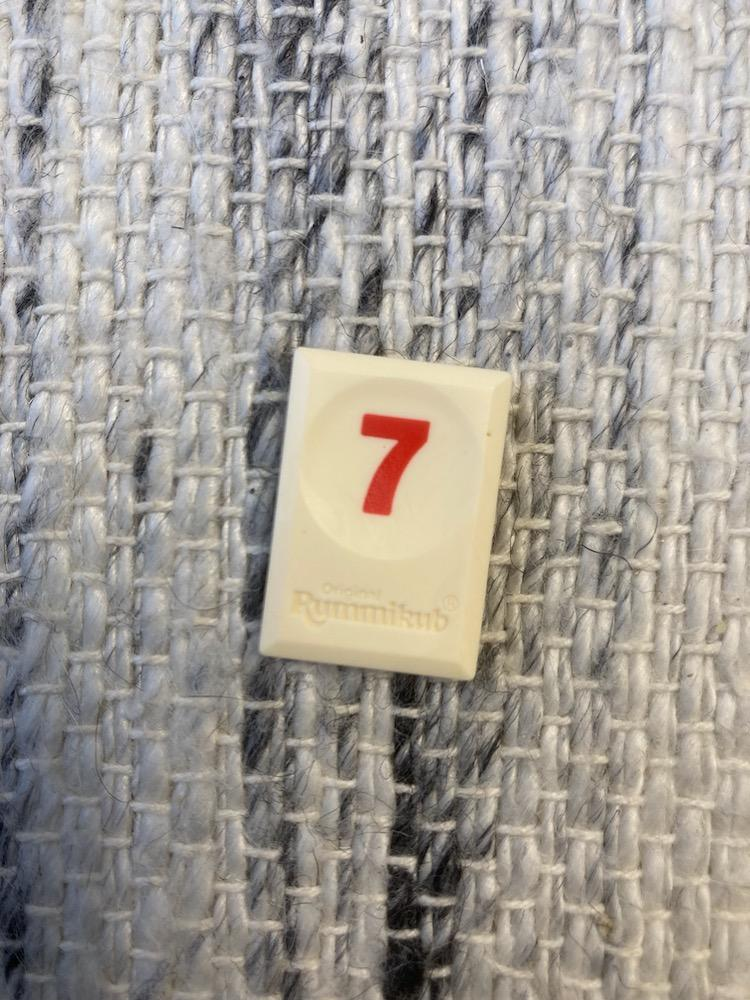red_7: (260, 348, 512, 680)
